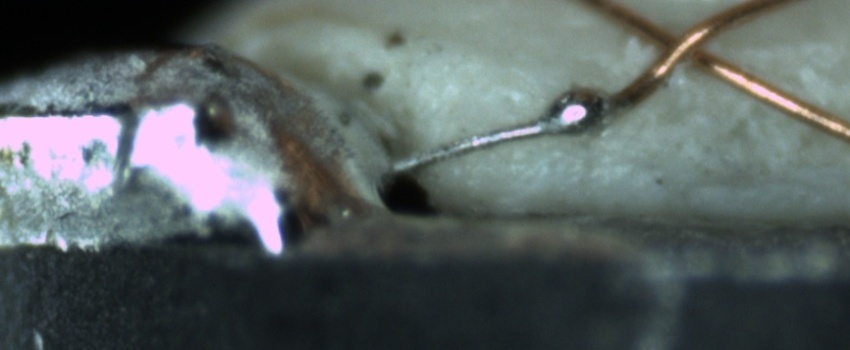CL: (633, 7, 732, 82)
TB: (539, 85, 613, 136)
TS: (392, 99, 629, 177)
TTCW: (385, 56, 668, 178)
